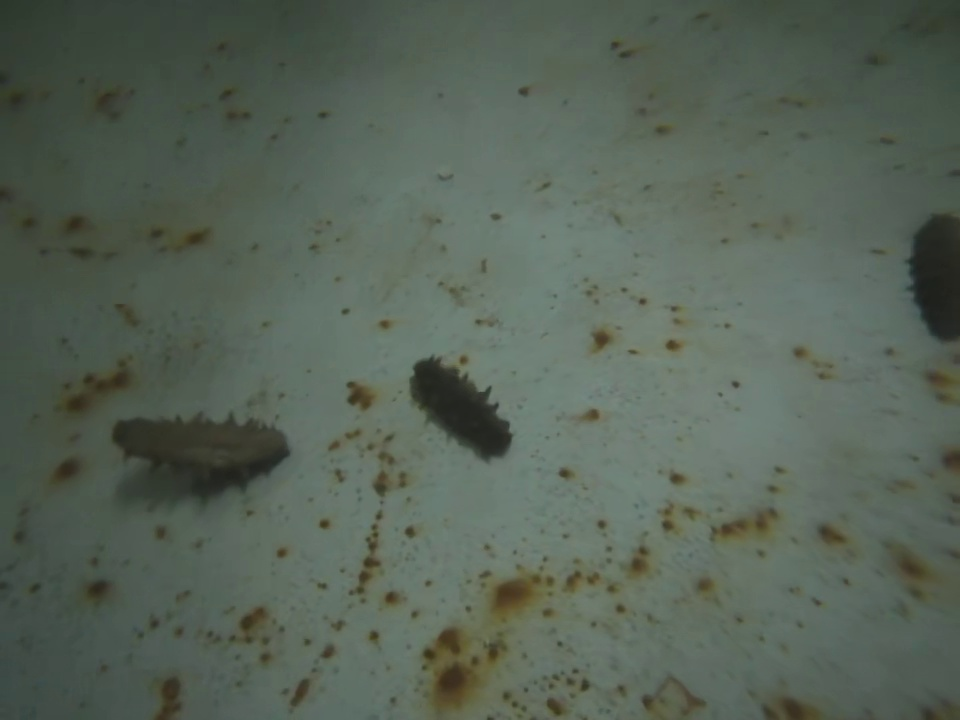seacucumber: (114, 413, 296, 487), (408, 353, 513, 458), (909, 208, 960, 345)
